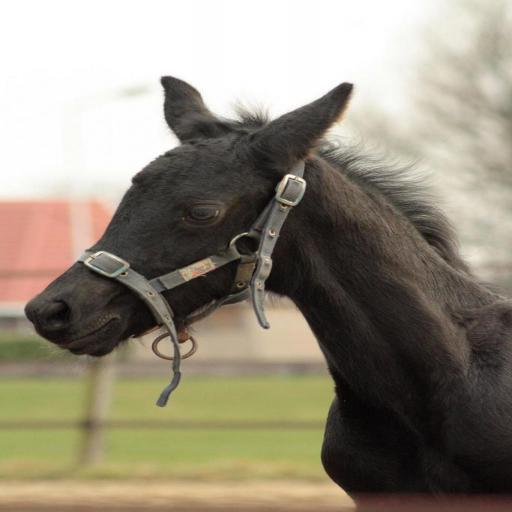horse: (23, 74, 512, 510)
